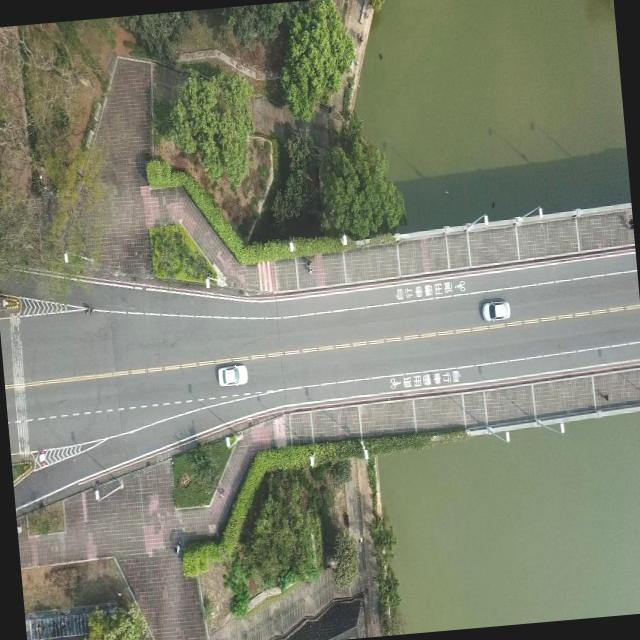car: (479, 296, 510, 322), (216, 362, 248, 387)
